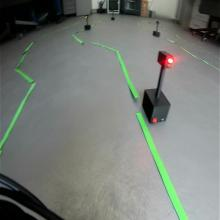red: (156, 50, 174, 69)
